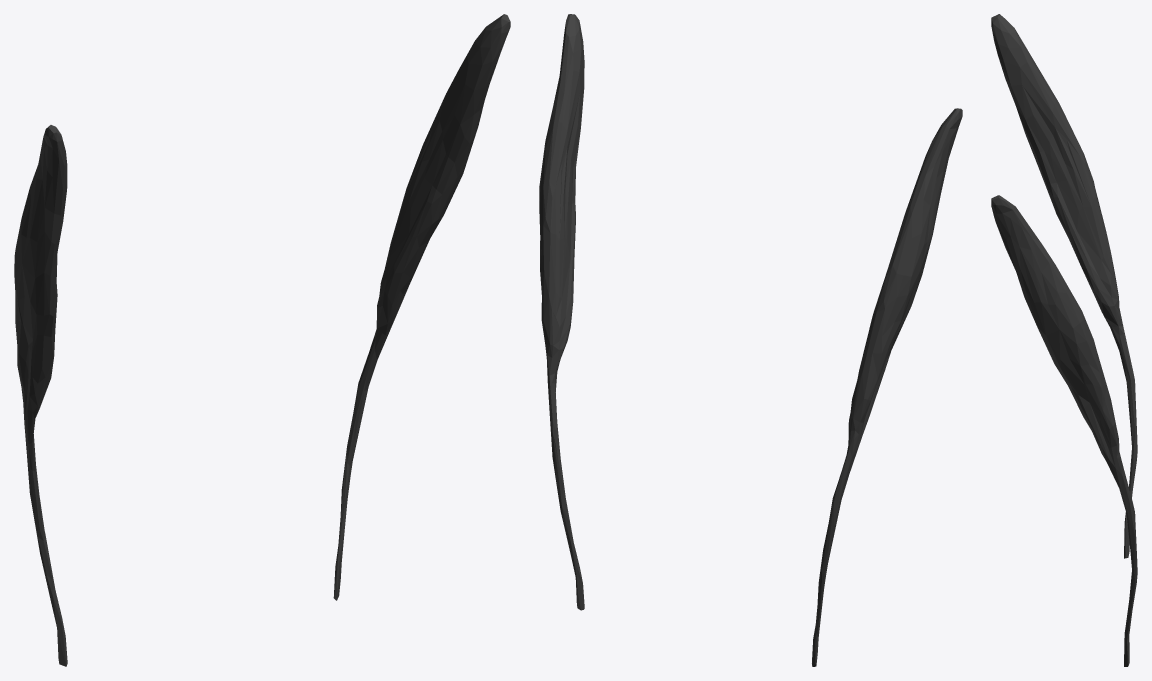
File: m_extensor_digitorum_lateralis_HL.glb
3 renders of one model, left to right at view 1: azimuth 30°, elevation 25°; view 2: azimuth 150°, elevation 25°; view 3: azimuth 270°, elevation 25°, orthographic. The views are drawn at different scales.
Visible parts, largest first — view 1: m_extensor_digitorum_lateralis_HL; view 2: m_extensor_digitorum_lateralis_HL; view 3: m_extensor_digitorum_lateralis_HL.
Boxes of the visible parts, bbox=[...] form: m_extensor_digitorum_lateralis_HL: bbox=[14, 14, 510, 666]; m_extensor_digitorum_lateralis_HL: bbox=[539, 14, 962, 666]; m_extensor_digitorum_lateralis_HL: bbox=[991, 14, 1137, 666].
Size of the model in its own units: 0.00756 by 0.00971 by 0.00254.
1 material, 1 textured.
